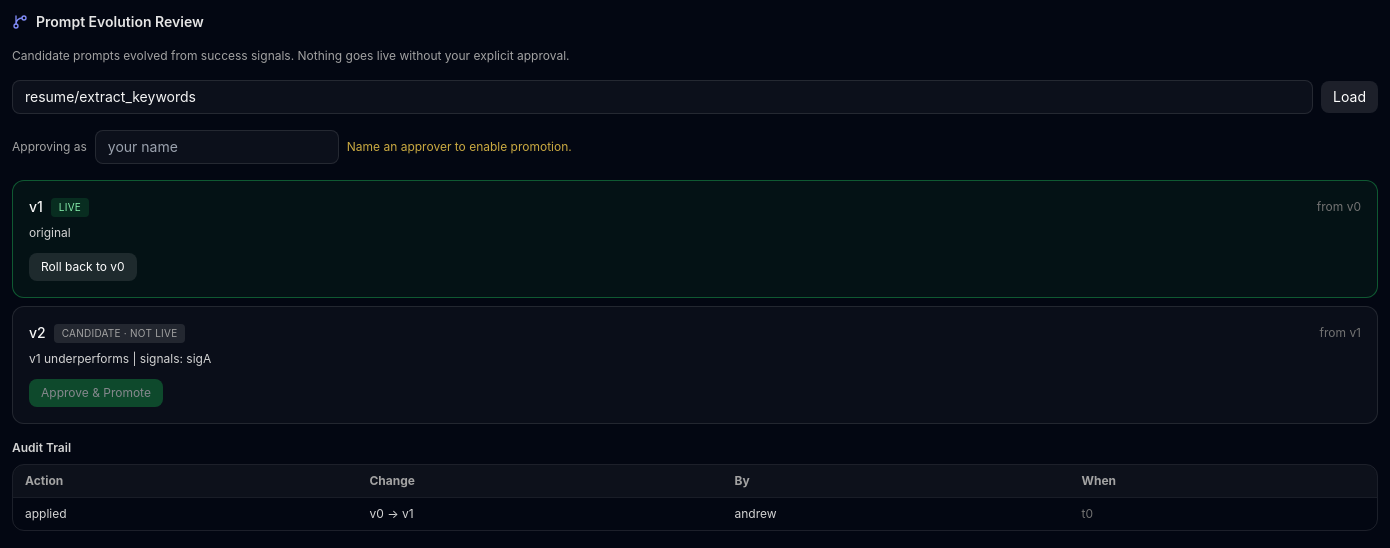
Test: promotion is gated: the promote button is disabled until an approver is named
Expected: the button with test id "promote-v2" is disabled, left=29, top=379, right=163, bottom=407
In the field with test id "approver-input": (217, 147) left=95, top=130, right=339, bottom=164, type "andrew"
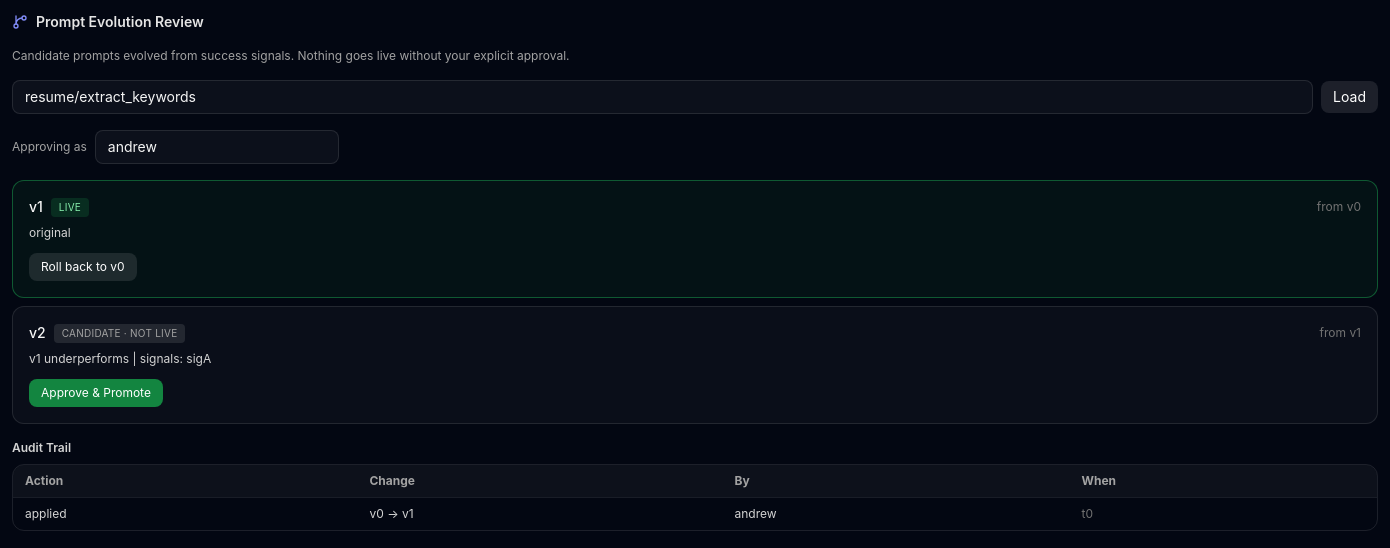
Expected: the button with test id "promote-v2" is enabled, left=29, top=379, right=163, bottom=407
